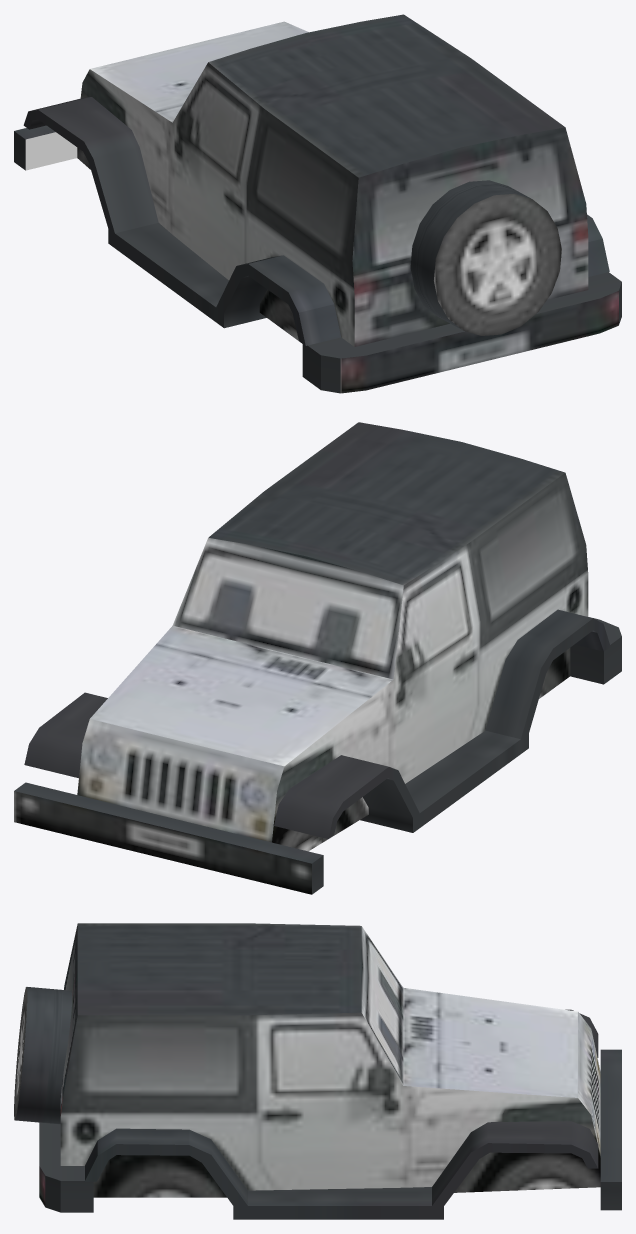
The model's file is JoacosJeepChasis.fbx.
3 views of the same model, one above another, from view 1: azimuth 30°, elevation 25°; view 2: azimuth 150°, elevation 25°; view 3: azimuth 270°, elevation 25° (orthographic). The views are drawn at different scales.
Visible parts, largest first — view 1: JoacosJeepChasis, JoacosJeepIzqGuadabarro, JoacosJeepLlantaRepuesto, JoacosJeepDerGuadabarro; view 2: JoacosJeepChasis, JoacosJeepIzqGuadabarro, JoacosJeepDerGuadabarro; view 3: JoacosJeepChasis, JoacosJeepDerGuadabarro, JoacosJeepLlantaRepuesto.
Part boxes in pixels (<box>): JoacosJeepChasis: <box>14,14,621,393</box>; JoacosJeepIzqGuadabarro: <box>23,97,340,345</box>; JoacosJeepLlantaRepuesto: <box>410,180,561,335</box>; JoacosJeepDerGuadabarro: <box>587,214,609,276</box>; JoacosJeepChasis: <box>14,422,621,894</box>; JoacosJeepIzqGuadabarro: <box>274,609,610,838</box>; JoacosJeepDerGuadabarro: <box>24,692,107,778</box>; JoacosJeepChasis: <box>39,923,621,1212</box>; JoacosJeepDerGuadabarro: <box>84,1121,598,1219</box>; JoacosJeepLlantaRepuesto: <box>14,987,72,1124</box>.
Bounding box in the file's own units: 13.55 × 8.79 × 25.78.
1 material, 1 textured.
